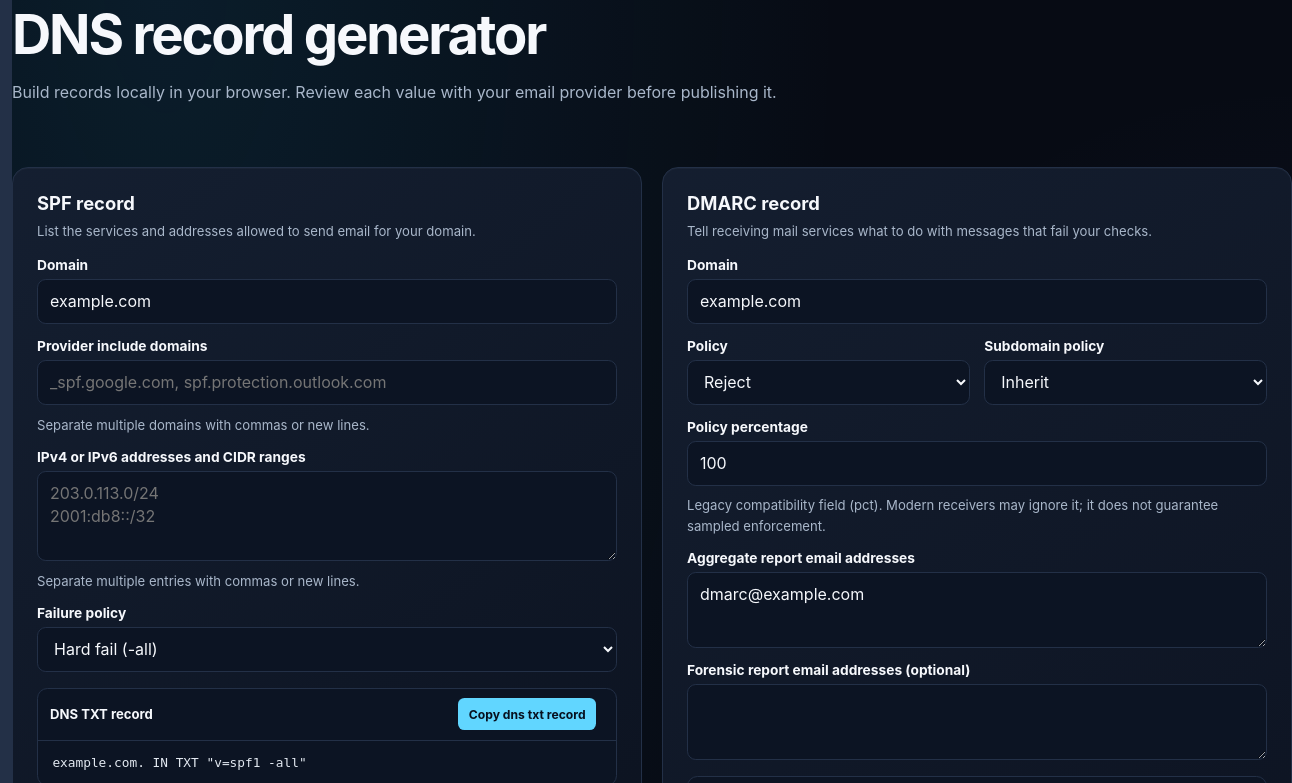
GeneratorPage › keeps a DMARC percentage of zero in the generated output
This screenshot has width=1292, height=783.
Replace the text in the number field labelled "Policy percentage" with "0" at (977, 463), box [687,441,1267,486]
(page scrolled)
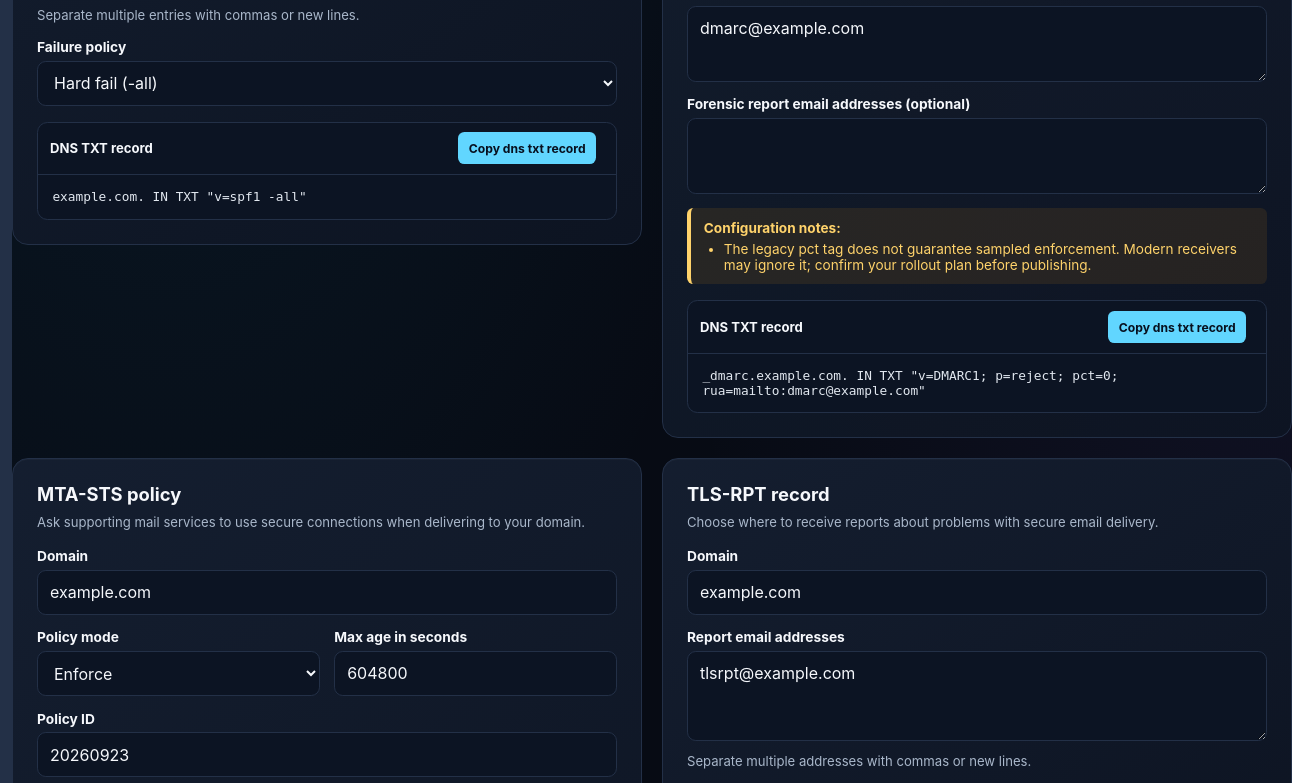
Check: the element named "DNS TXT record" shows "pct=0", box [702,368,1126,398]
